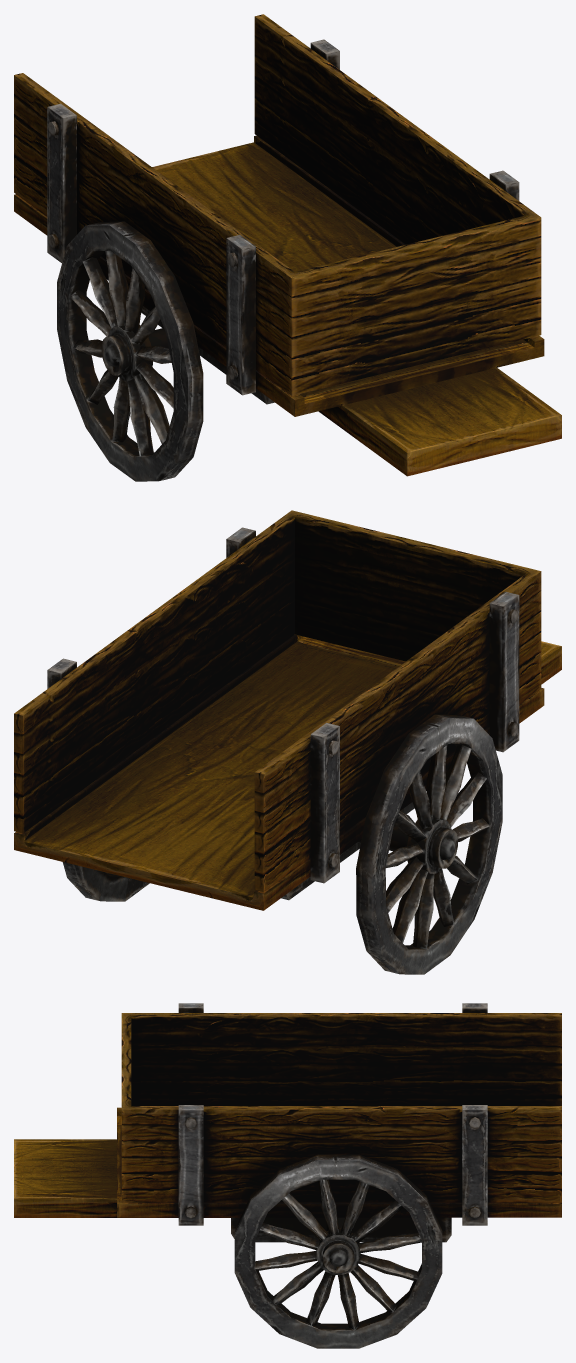
The model's file is StylizedCart.fbx.
The picture shows the model from 3 angles, top to bottom: view 1: azimuth 30°, elevation 25°; view 2: azimuth 150°, elevation 25°; view 3: azimuth 270°, elevation 25°; orthographic projection. The views are drawn at different scales.
Parts seen in each view (by area): view 1: StylizedCart; view 2: StylizedCart; view 3: StylizedCart.
Boxes of the visible parts, left/top/right/bottom form: StylizedCart: left=14, top=14, right=561, bottom=481; StylizedCart: left=14, top=510, right=561, bottom=974; StylizedCart: left=14, top=1003, right=561, bottom=1348.
Bounding box in the file's own units: 142 × 115 × 247.
1 material, 1 textured.
